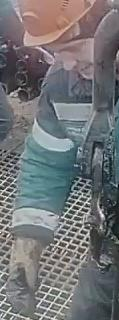gloves: (5, 208, 48, 317)
helmet: (17, 0, 98, 50)
vest: (38, 64, 119, 231)
